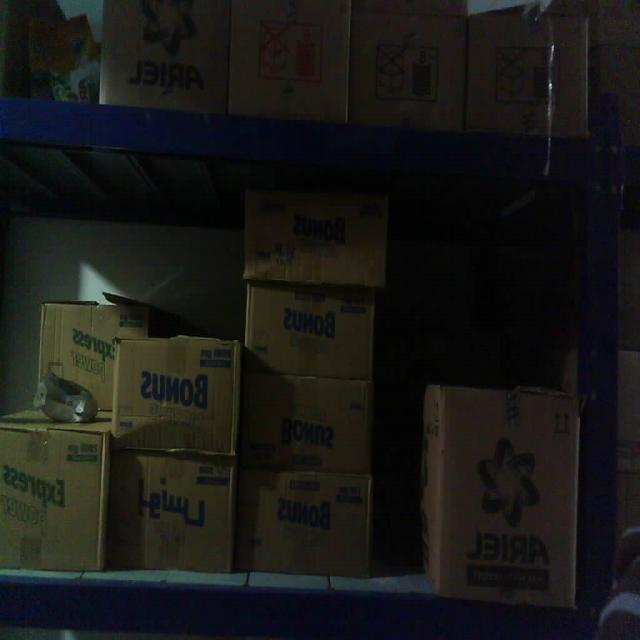cardboxes: (438, 386, 582, 606), (108, 334, 243, 456), (464, 5, 589, 134), (0, 426, 109, 572), (103, 454, 238, 571), (235, 464, 372, 576), (348, 0, 469, 125), (225, 0, 354, 113), (243, 186, 386, 282), (41, 300, 154, 416), (235, 372, 372, 466), (240, 282, 377, 373)
